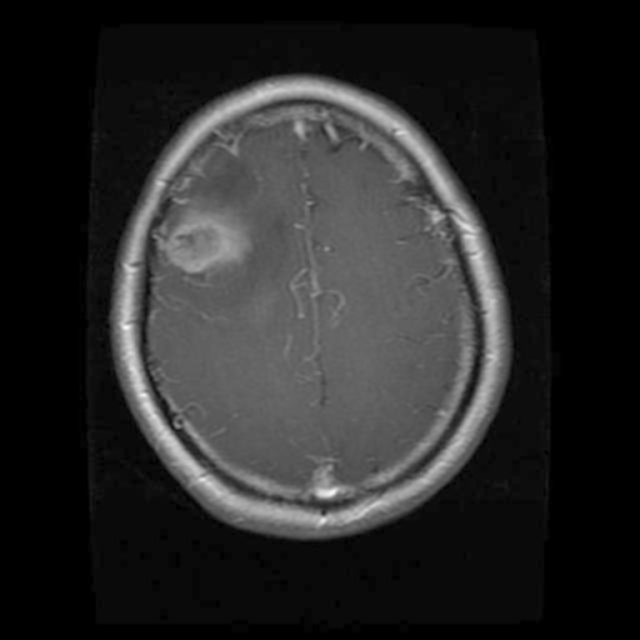pituitary tumor: (168, 214, 244, 282)
